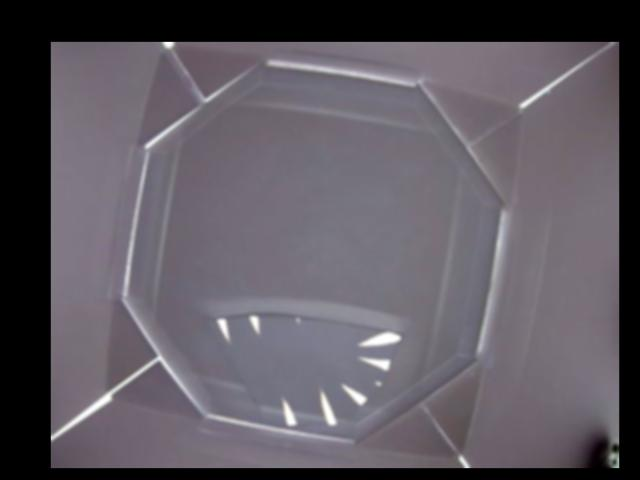China: (205, 311, 399, 428)
